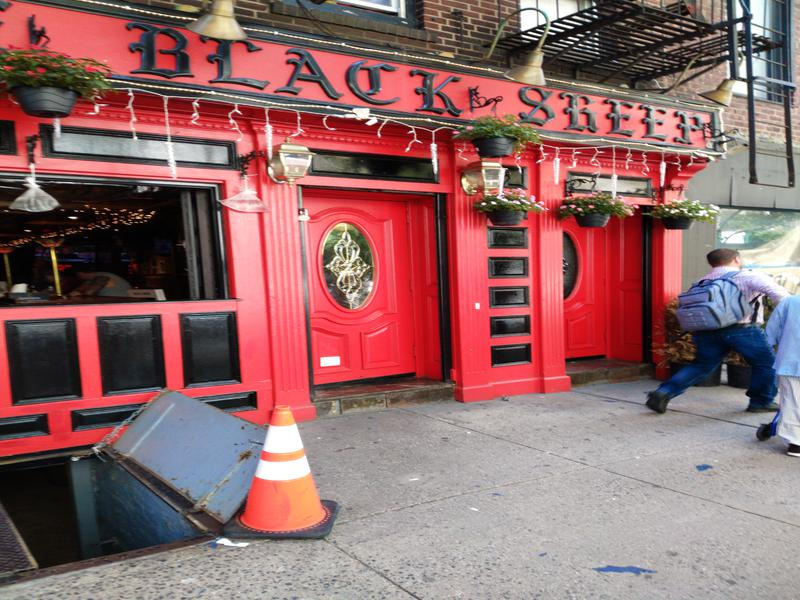door: (300, 182, 427, 379)
